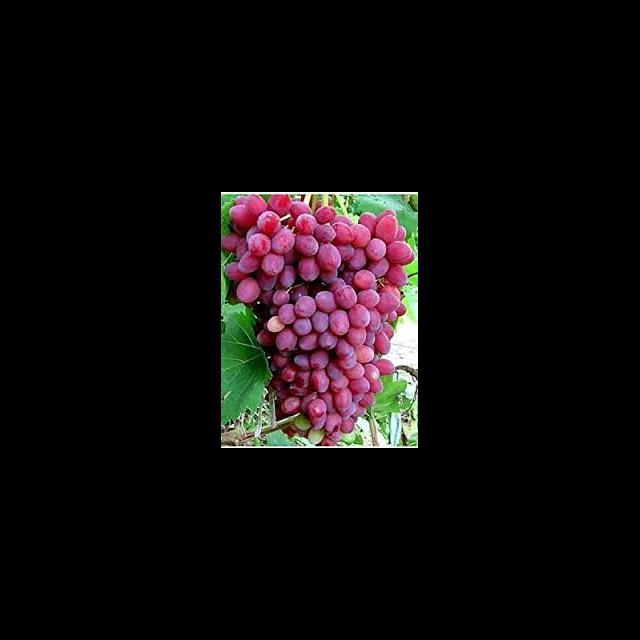grape: (222, 194, 414, 445)
